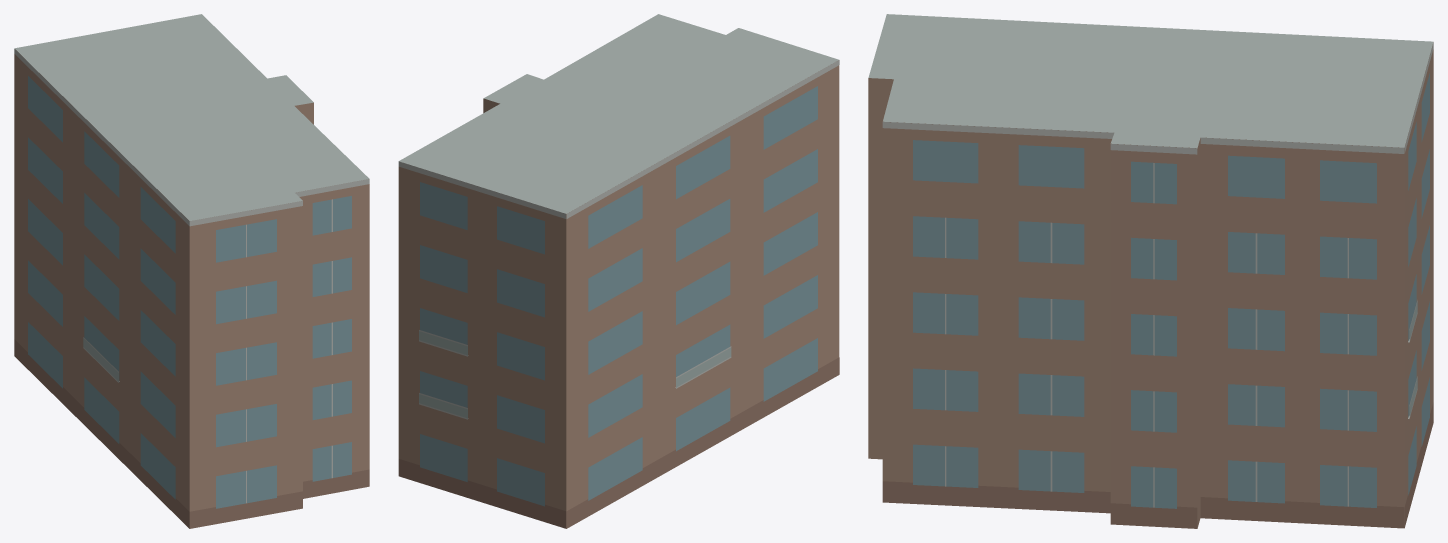
File: survey-upis-32592093.glb
3 views of the same model, side by side, from view 1: azimuth 30°, elevation 25°; view 2: azimuth 150°, elevation 25°; view 3: azimuth 270°, elevation 25° (orthographic). The views are drawn at different scales.
Visible parts, largest first — view 1: survey-upis-32592093.tmp; view 2: survey-upis-32592093.tmp; view 3: survey-upis-32592093.tmp.
Part boxes in pixels (x1=…): survey-upis-32592093.tmp: x1=14, y1=14, x2=369, y2=528; survey-upis-32592093.tmp: x1=398, y1=14, x2=839, y2=528; survey-upis-32592093.tmp: x1=868, y1=14, x2=1433, y2=528.
Bounding box in the file's own units: 10.98 × 14.52 × 19.55.
